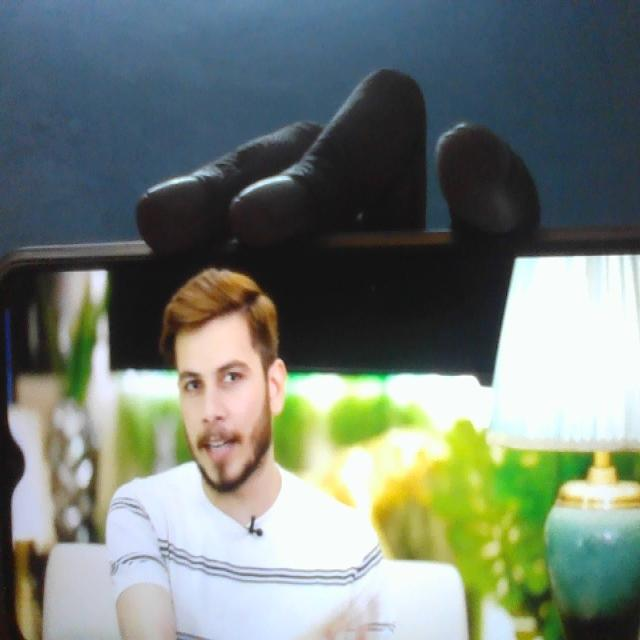fake: (151, 244, 285, 497)
